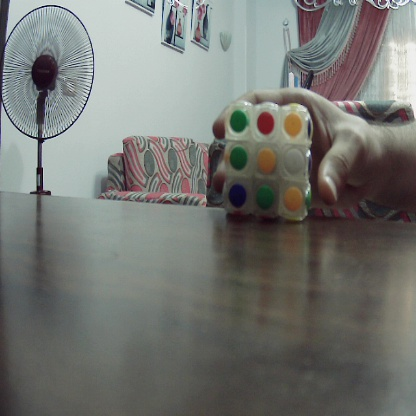Rubix Cube: (219, 98, 317, 220)
